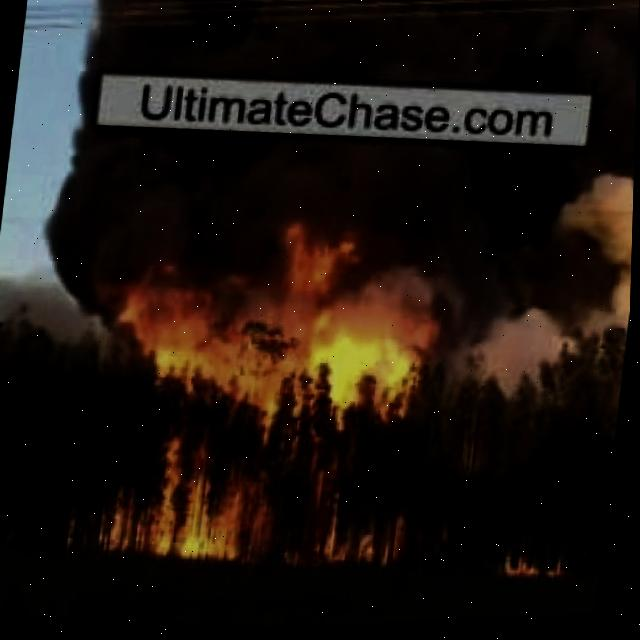Fire: (106, 210, 432, 575), (507, 554, 574, 592)
Smoke: (59, 0, 640, 121), (56, 116, 464, 249), (436, 149, 636, 404)
